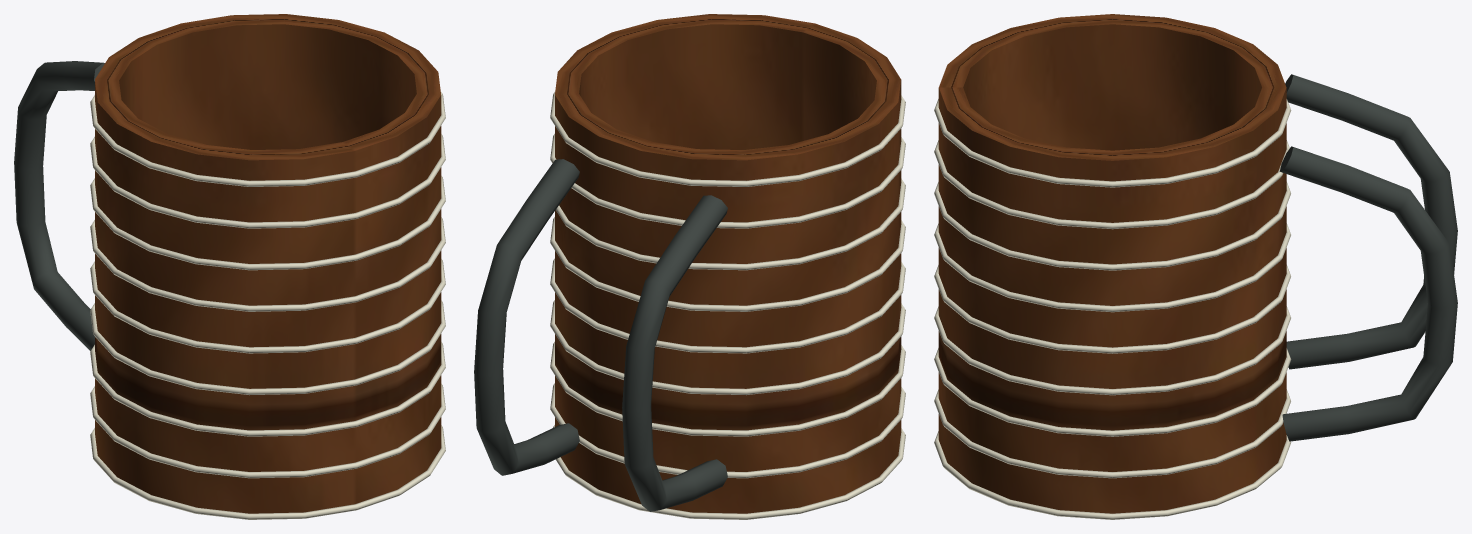
Rendered from backpacks-and-expedition-storage-basket-back-carrier-6876b4fe__21075.glb.
3 views of the same model, side by side, from view 1: azimuth 30°, elevation 25°; view 2: azimuth 150°, elevation 25°; view 3: azimuth 270°, elevation 25° (orthographic).
Visible parts, largest first — view 1: basket-back-carrier; view 2: basket-back-carrier; view 3: basket-back-carrier.
Boxes of the visible parts, <box> form: basket-back-carrier: <box>14,14,445,519</box>; basket-back-carrier: <box>474,14,905,519</box>; basket-back-carrier: <box>934,14,1457,519</box>.
Bounding box in the file's own units: 0.452 × 0.5 × 0.6629.
3 materials, 1 textured.
